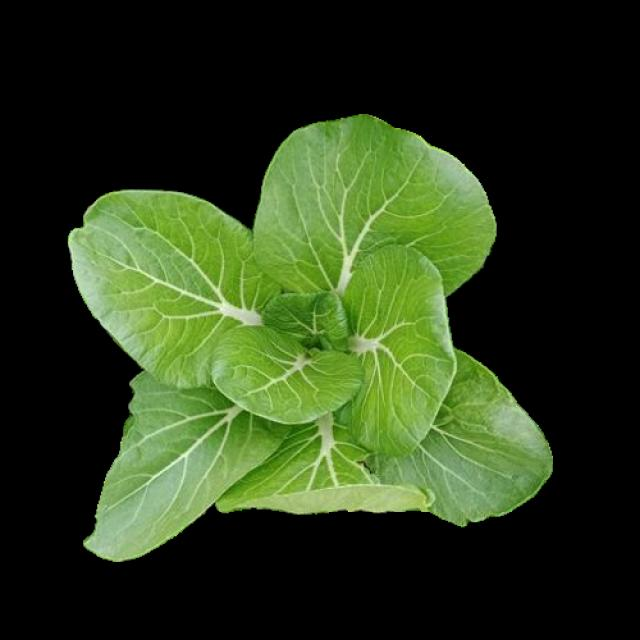mature: (69, 112, 556, 560)
unhealthy: (216, 393, 439, 526)
